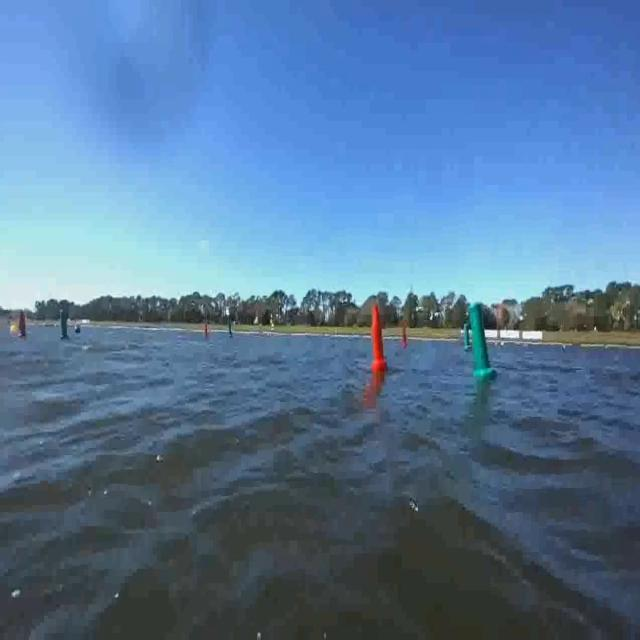blue-buoy: (74, 323, 82, 335)
green-column-buoy: (470, 303, 496, 381), (58, 308, 71, 341), (463, 326, 472, 353), (227, 321, 233, 340)
red-column-buoy: (371, 303, 388, 372), (16, 312, 28, 342), (400, 322, 408, 350), (204, 322, 211, 339)
yellow-buoy: (10, 320, 18, 335)
